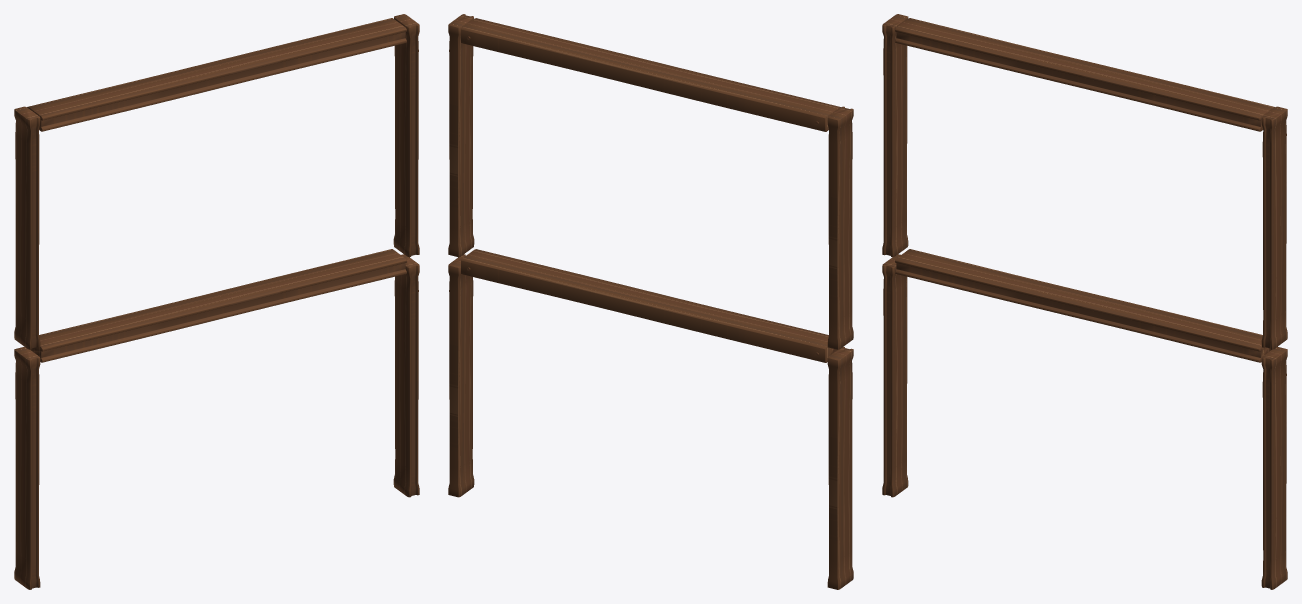
The model's file is CM_C05_FrontTimber.fbx.
The picture shows the model from 3 angles, left to right: view 1: azimuth 30°, elevation 25°; view 2: azimuth 150°, elevation 25°; view 3: azimuth 330°, elevation 25°; orthographic projection.
Parts seen in each view (by area): view 1: CM_C05_FrontTimber; view 2: CM_C05_FrontTimber; view 3: CM_C05_FrontTimber.
Boxes of the visible parts, bbox=[...] form: CM_C05_FrontTimber: bbox=[14, 14, 419, 589]; CM_C05_FrontTimber: bbox=[448, 14, 853, 589]; CM_C05_FrontTimber: bbox=[882, 14, 1287, 589].
Bounding box in the file's own units: 5.8 × 6.65 × 0.414.
